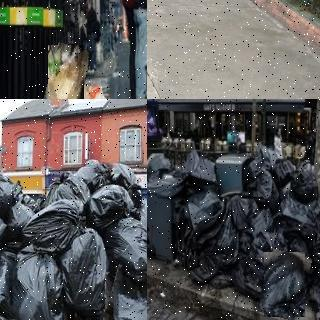Garbage: (8, 249, 78, 320), (57, 227, 113, 313), (21, 193, 79, 252), (260, 250, 309, 319), (81, 177, 141, 227), (102, 213, 147, 274), (43, 43, 88, 99), (99, 268, 147, 320), (40, 170, 90, 208), (110, 159, 147, 208), (289, 160, 318, 204), (76, 158, 112, 192), (0, 165, 23, 212), (310, 221, 320, 280), (307, 279, 320, 312)
